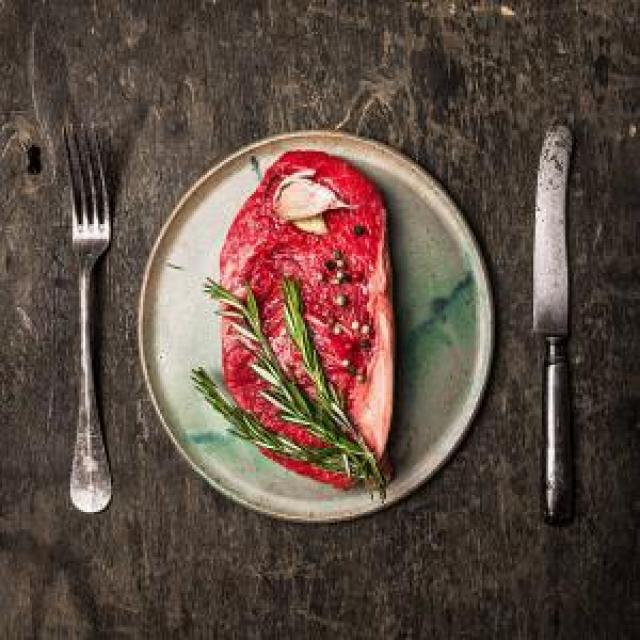knife: (531, 124, 585, 531)
